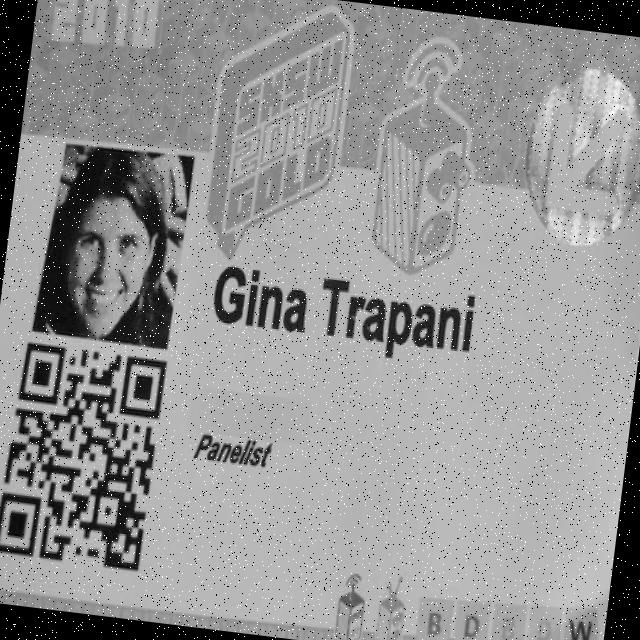QR-codes: (0, 335, 168, 570)
